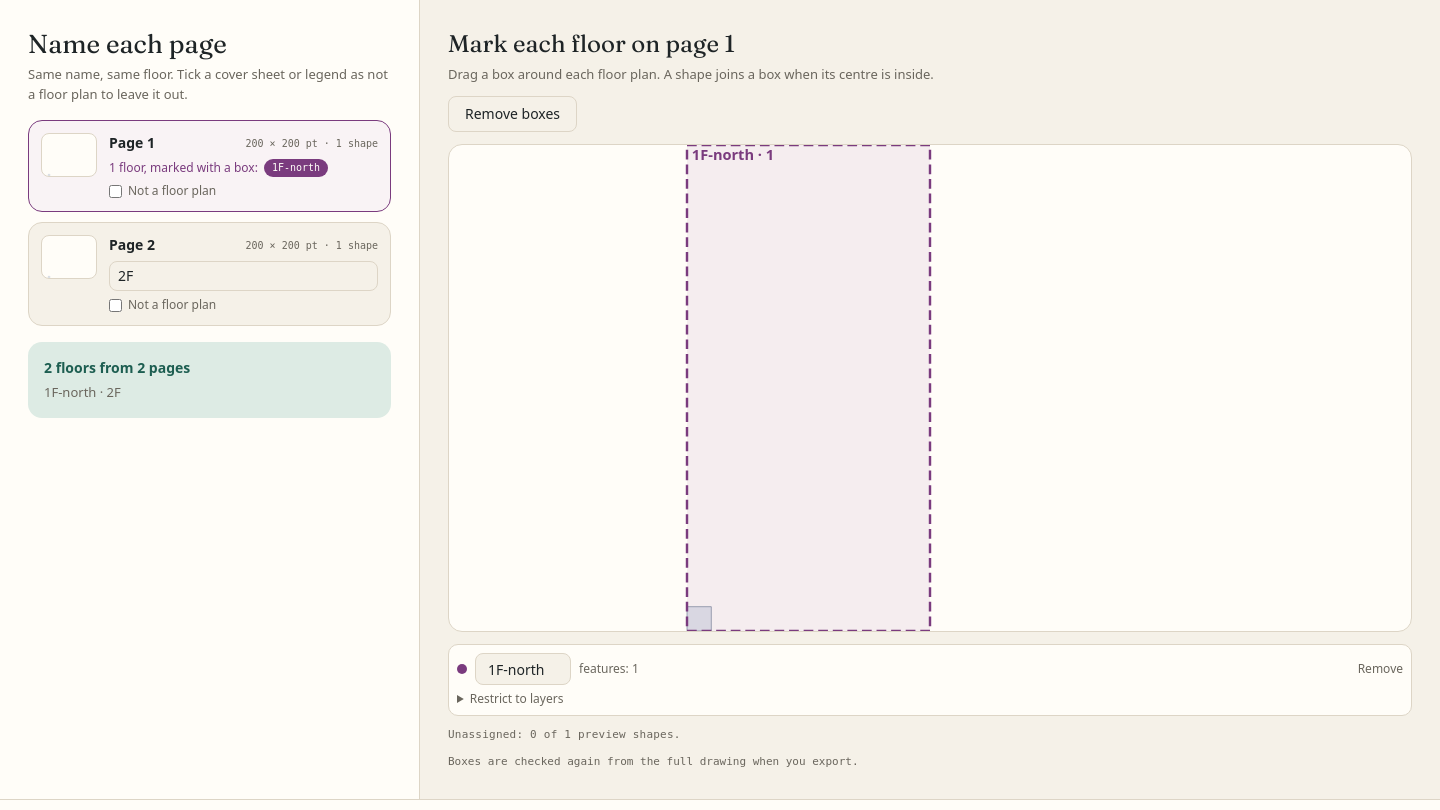
a page with boxes lists them in place of its name until Remove boxes
Expected: the text "1 floor, marked with a box:" is shown, [109, 159, 258, 176]
Expected: the heading "Mark each floor on page 1" is shown, [448, 29, 735, 58]
Click the button "Remove boxes": x=513, y=114 [448, 96, 577, 132]
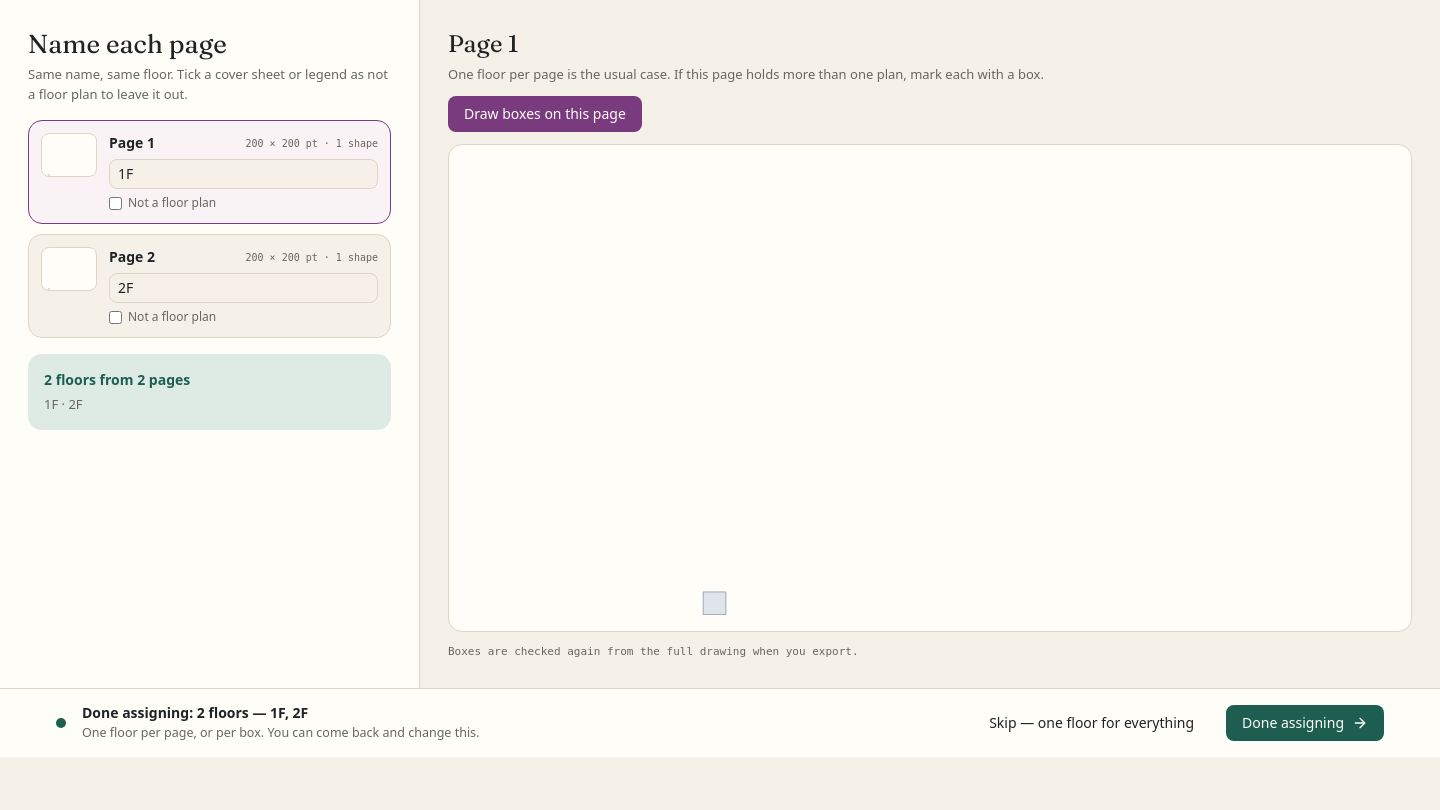
Expected: the field named "Floor name for page 1" is enabled, [109, 159, 378, 189]
Expected: the button "Remove boxes" is gone
Expected: the button "Draw boxes on this page" is shown, [448, 96, 642, 132]
